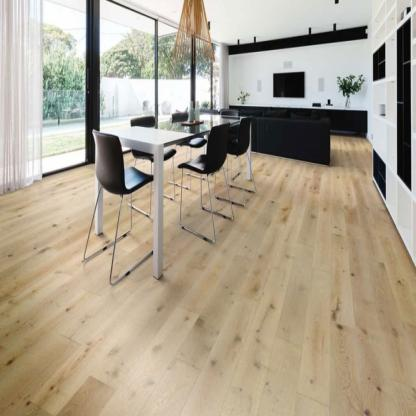Wooden floor: (1, 134, 416, 415)
